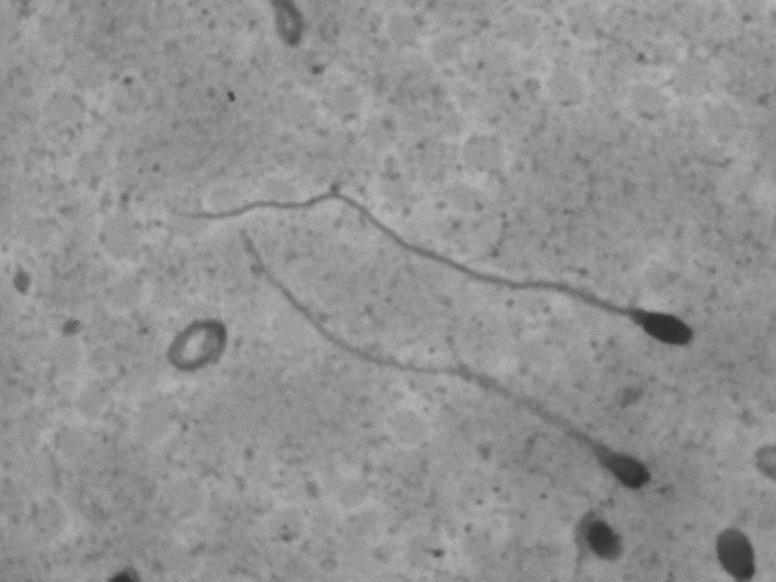Abnormal: (211, 219, 666, 505), (410, 234, 705, 368)
